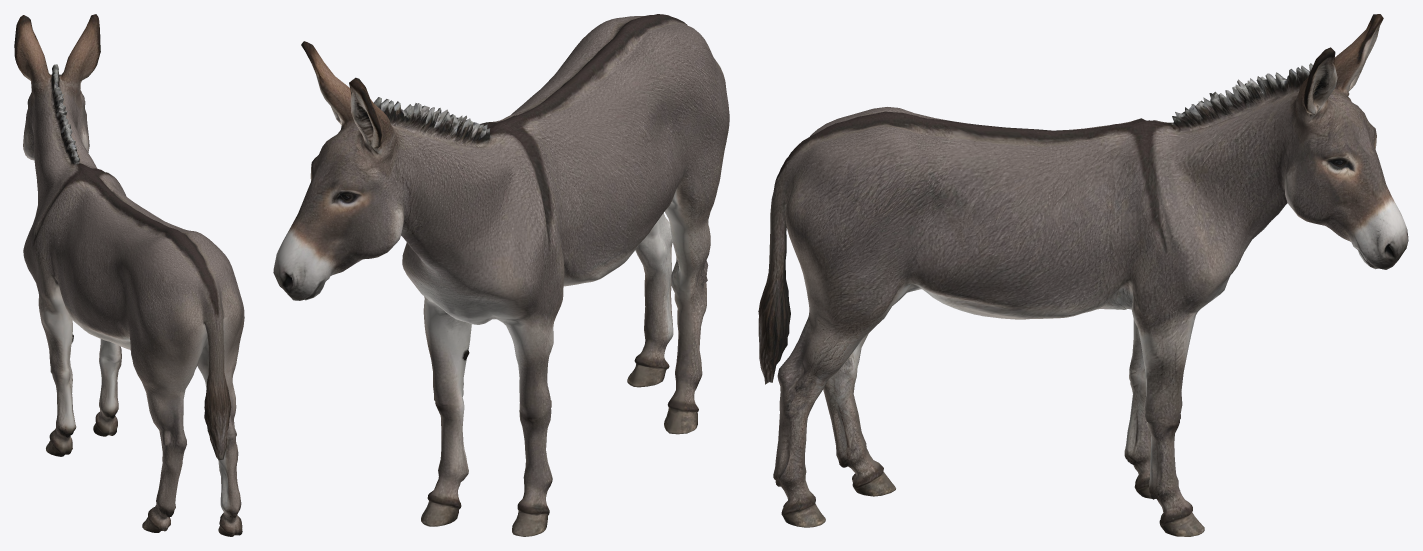
File: ass.glb
The picture shows the model from 3 angles, left to right: view 1: azimuth 30°, elevation 25°; view 2: azimuth 150°, elevation 25°; view 3: azimuth 270°, elevation 25°; orthographic projection. The views are drawn at different scales.
Parts seen in each view (by area): view 1: tripo_node_eaf11519-dc87-4c6e-b6df-a43f2e2f9790; view 2: tripo_node_eaf11519-dc87-4c6e-b6df-a43f2e2f9790; view 3: tripo_node_eaf11519-dc87-4c6e-b6df-a43f2e2f9790.
Boxes of the visible parts, bbox=[...] form: tripo_node_eaf11519-dc87-4c6e-b6df-a43f2e2f9790: bbox=[14, 14, 244, 536]; tripo_node_eaf11519-dc87-4c6e-b6df-a43f2e2f9790: bbox=[273, 14, 729, 536]; tripo_node_eaf11519-dc87-4c6e-b6df-a43f2e2f9790: bbox=[758, 14, 1408, 536].
Bounding box in the file's own units: 0.3141 × 0.8488 × 0.9771.
Materials: 1 (1 with a texture image).
